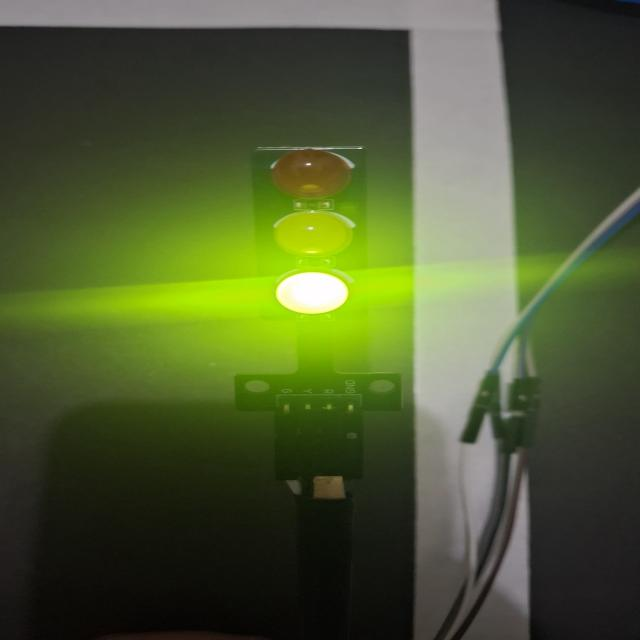Lampu Hijau: (245, 142, 371, 321)
